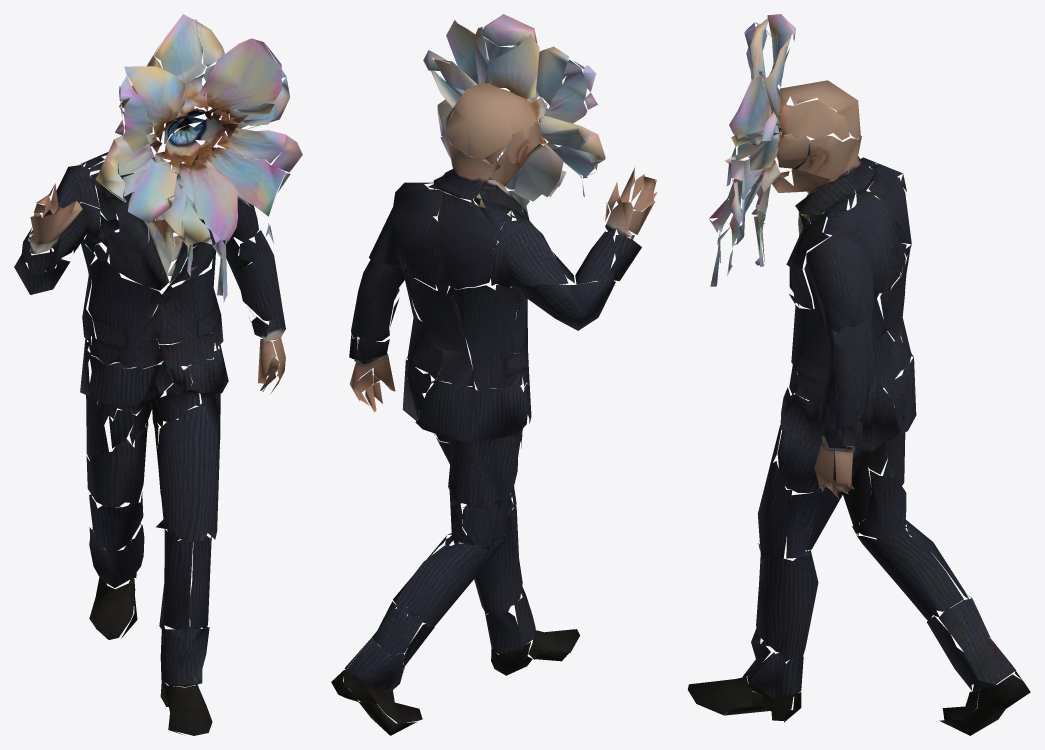
The model's file is crowd_wiseguy_full.glb.
3 renders of one model, left to right at view 1: azimuth 30°, elevation 25°; view 2: azimuth 150°, elevation 25°; view 3: azimuth 270°, elevation 25°, orthographic. The views are drawn at different scales.
Parts seen in each view (by area): view 1: tripo_node_096ba9d0-4f72-4ce4-bbae-e90f7e3d7e71; view 2: tripo_node_096ba9d0-4f72-4ce4-bbae-e90f7e3d7e71; view 3: tripo_node_096ba9d0-4f72-4ce4-bbae-e90f7e3d7e71.
Part boxes in pixels (x1,y1,x2,y2): tripo_node_096ba9d0-4f72-4ce4-bbae-e90f7e3d7e71: [14, 14, 302, 735]; tripo_node_096ba9d0-4f72-4ce4-bbae-e90f7e3d7e71: [331, 14, 657, 735]; tripo_node_096ba9d0-4f72-4ce4-bbae-e90f7e3d7e71: [687, 14, 1030, 735].
Size of the model in its own units: 0.4331 by 0.9987 by 0.4427.
Materials: 1 (1 with a texture image).
